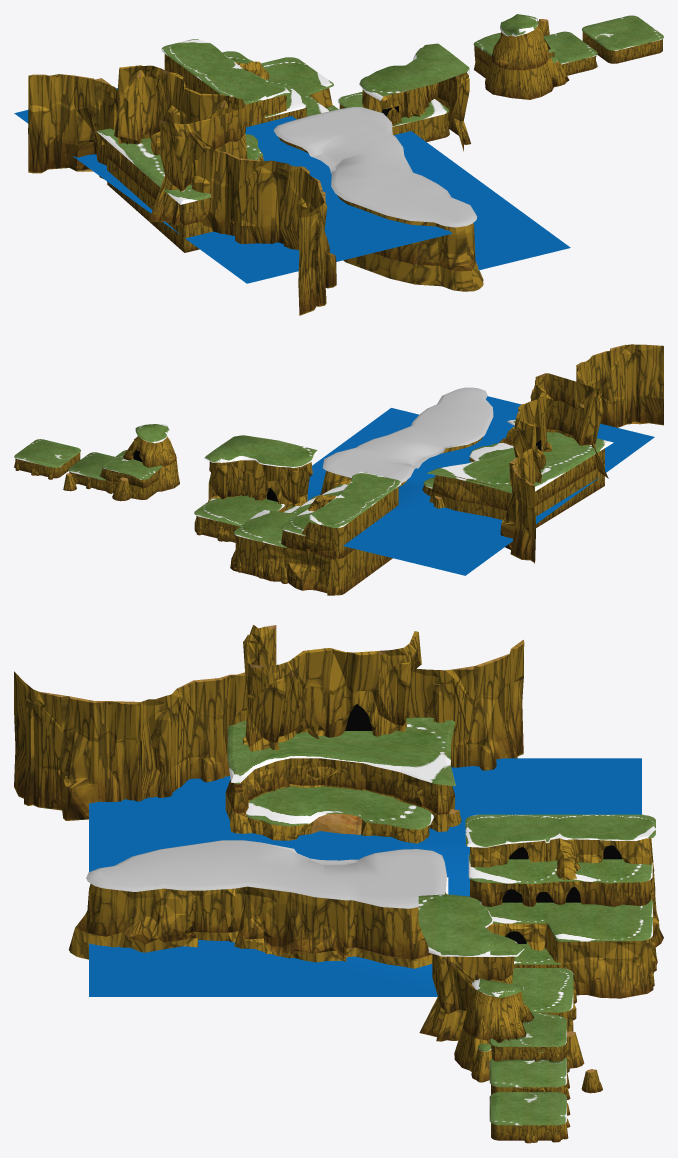
Rendered from 1-2Notsonew.FBX.
3 renders of one model, top to bottom at view 1: azimuth 30°, elevation 25°; view 2: azimuth 150°, elevation 25°; view 3: azimuth 270°, elevation 25°, orthographic. The views are drawn at different scales.
Visible parts, largest first — view 1: Area5, Area4, Area1, Lowered Water, Dont Touch this water, Area3, Area2; view 2: Area5, Area3, Dont Touch this water, Area2, Area4, Area1, Lowered Water; view 3: Area5, Area4, Area3, Dont Touch this water, Area1, Area2, Lowered Water.
Boxes of the visible parts, <box> form: Area5: <box>28,65,336,315</box>; Area4: <box>273,107,483,291</box>; Area1: <box>473,14,663,99</box>; Lowered Water: <box>119,147,452,283</box>; Dont Touch this water: <box>14,88,570,270</box>; Area3: <box>161,39,338,127</box>; Area2: <box>337,43,470,151</box>; Area5: <box>422,344,663,563</box>; Area3: <box>230,471,401,595</box>; Dont Touch this water: <box>307,408,550,575</box>; Area2: <box>194,435,319,542</box>; Area4: <box>320,387,493,495</box>; Area1: <box>14,424,179,501</box>; Lowered Water: <box>409,396,654,513</box>; Area5: <box>14,625,524,843</box>; Area4: <box>68,840,446,968</box>; Area3: <box>465,814,663,998</box>; Dont Touch this water: <box>89,758,641,996</box>; Area1: <box>454,978,602,1143</box>; Area2: <box>418,894,576,1041</box>; Lowered Water: <box>89,776,393,872</box>.
Size of the model in its own units: 4395 by 1140 by 3321.
